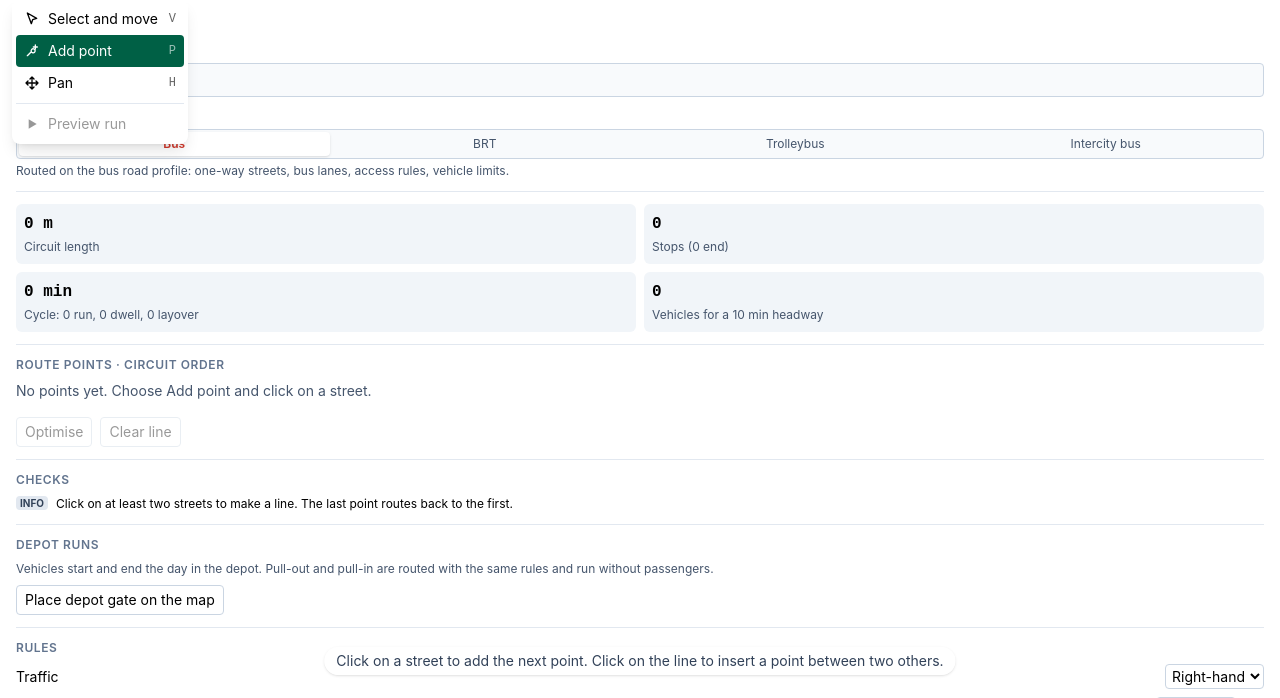
Test: Street line editor › re-routes and recolours when the mode changes
This screenshot has width=1280, height=698.
Expected: the element named "Mode" is shown, [16,129,1264,159]
Click the radio button labelled "Trolleybus". click: (795, 144)
box: [640,132,950,156]
(page scrolled)
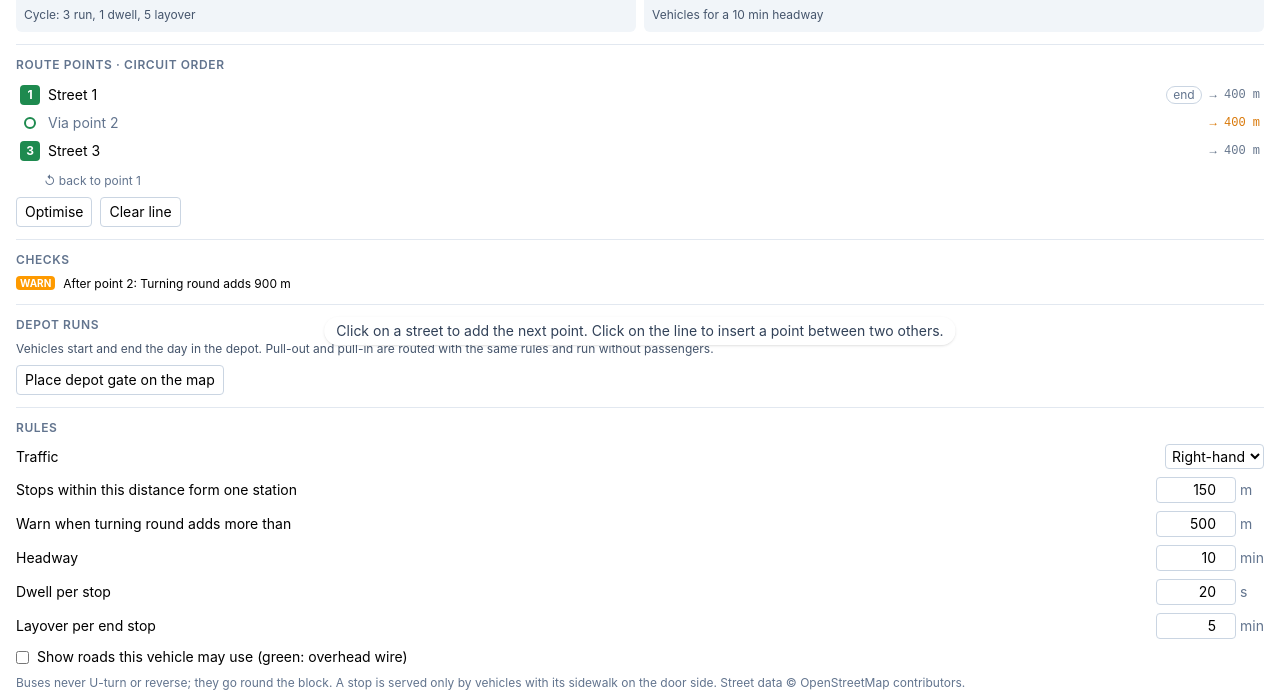
Expected: the text "Show roads this vehicle may use (green: overhead wire)" is shown, [16,648,408,665]
